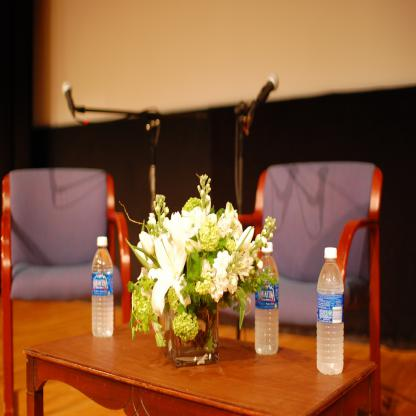vase: (162, 301, 216, 367)
